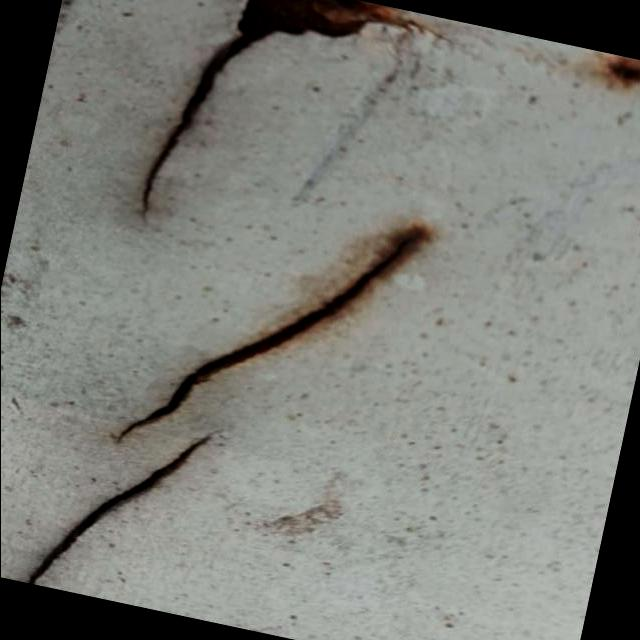defect: (106, 221, 445, 443), (24, 423, 230, 587), (131, 27, 287, 227)
